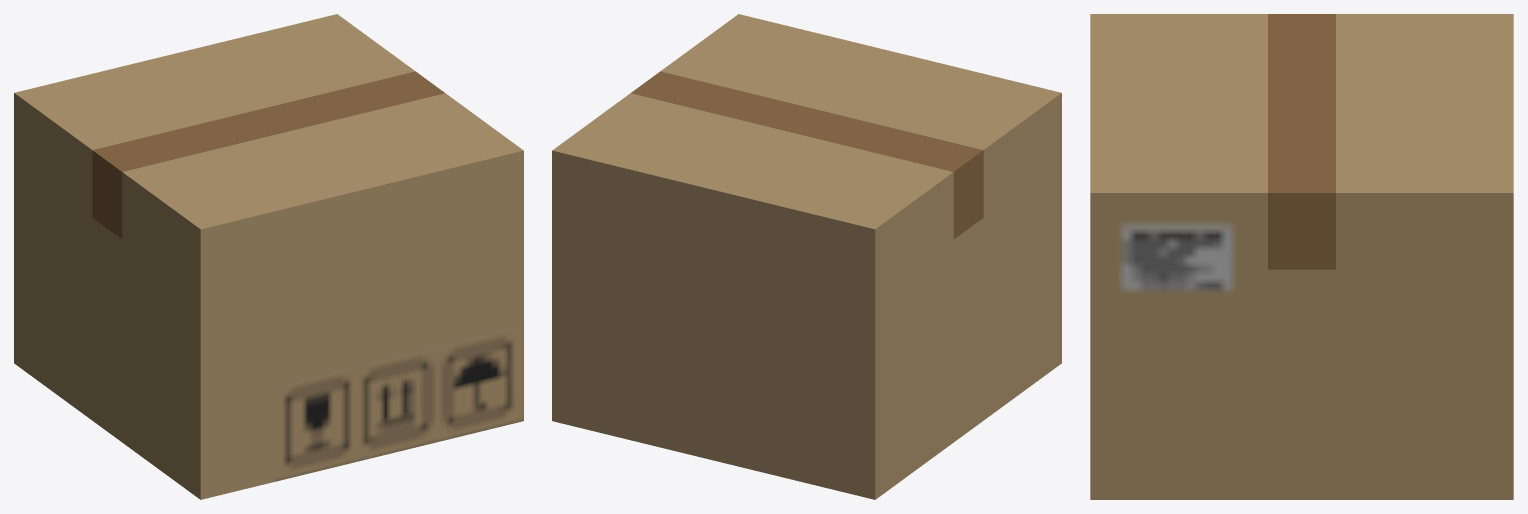
Rendered from SM_Props_Interior_Generic_Warehouse_Carton_Box.fbx.
The picture shows the model from 3 angles, left to right: view 1: azimuth 30°, elevation 25°; view 2: azimuth 150°, elevation 25°; view 3: azimuth 270°, elevation 25°; orthographic projection. The views are drawn at different scales.
Visible parts, largest first — view 1: SM_Props_Interior_Generic_Warehouse_Carton_Box; view 2: SM_Props_Interior_Generic_Warehouse_Carton_Box; view 3: SM_Props_Interior_Generic_Warehouse_Carton_Box.
Boxes of the visible parts, <box> form: SM_Props_Interior_Generic_Warehouse_Carton_Box: <box>14,14,523,499</box>; SM_Props_Interior_Generic_Warehouse_Carton_Box: <box>552,14,1061,499</box>; SM_Props_Interior_Generic_Warehouse_Carton_Box: <box>1090,14,1513,499</box>.
Bounding box in the file's own units: 100 × 80 × 100.
